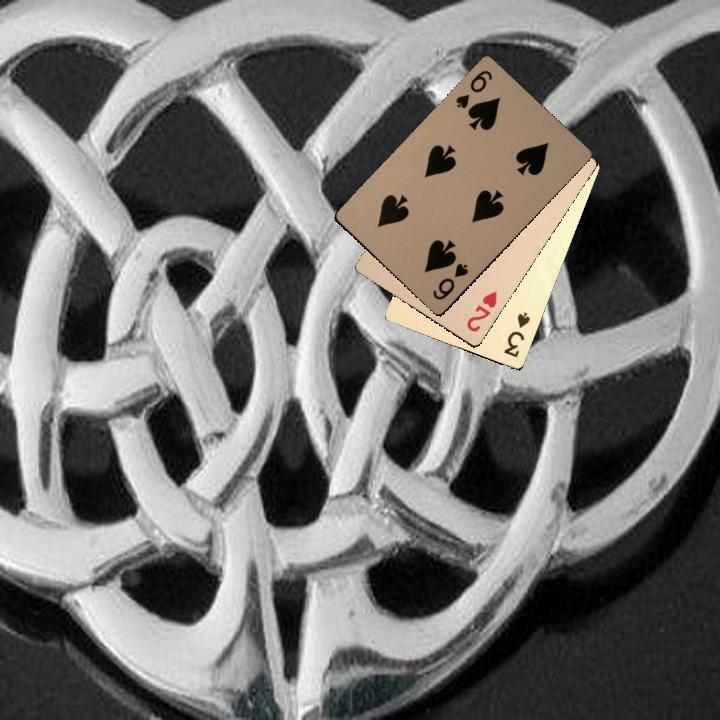2h: (462, 287, 500, 335)
3s: (500, 308, 533, 360)
6s: (451, 66, 495, 111), (428, 259, 471, 302)
